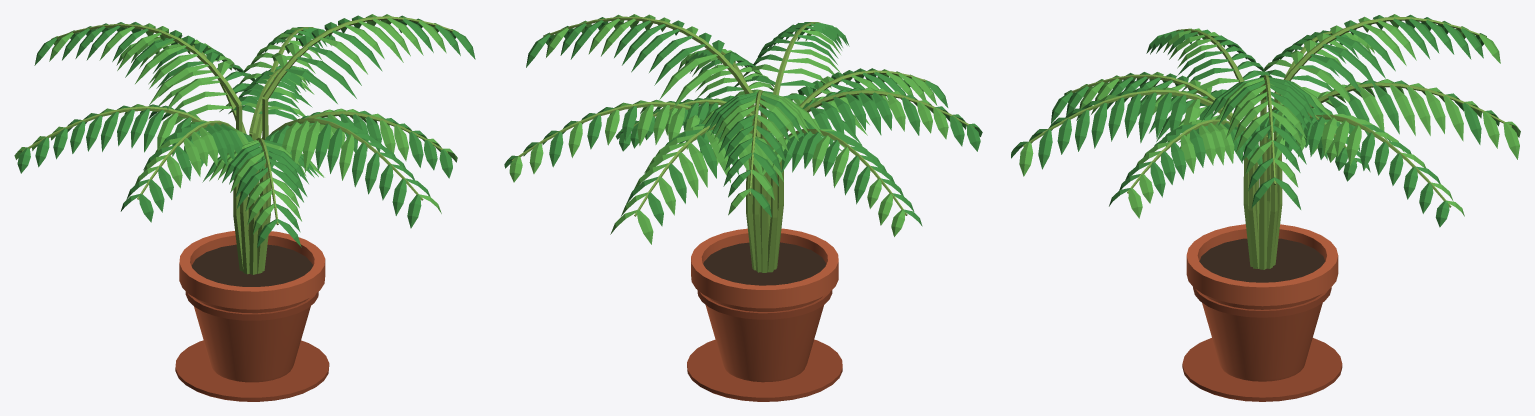
The model's file is planta-palma-maceta.glb.
3 views of the same model, side by side, from view 1: azimuth 30°, elevation 25°; view 2: azimuth 150°, elevation 25°; view 3: azimuth 270°, elevation 25° (orthographic). The views are drawn at different scales.
Parts seen in each view (by area): view 1: Planta_Palma_HojaPalma, Planta_Palma_HojaPalmaClara, Planta_Palma_Terracota, Planta_Palma_TalloPalma, Planta_Palma_TerracotaOscura, Planta_Palma_Tierra; view 2: Planta_Palma_HojaPalma, Planta_Palma_HojaPalmaClara, Planta_Palma_Terracota, Planta_Palma_TalloPalma, Planta_Palma_TerracotaOscura, Planta_Palma_Tierra; view 3: Planta_Palma_HojaPalma, Planta_Palma_HojaPalmaClara, Planta_Palma_Terracota, Planta_Palma_TalloPalma, Planta_Palma_TerracotaOscura, Planta_Palma_Tierra.
Part boxes in pixels (x1,y1,x2,y2): Planta_Palma_HojaPalma: (17,15,475,247); Planta_Palma_HojaPalmaClara: (14,14,457,234); Planta_Palma_Terracota: (179,231,325,382); Planta_Palma_TalloPalma: (22,16,458,274); Planta_Palma_TerracotaOscura: (175,291,329,401); Planta_Palma_Tierra: (191,244,312,286); Planta_Palma_HojaPalma: (504,17,982,226); Planta_Palma_HojaPalmaClara: (509,14,948,244); Planta_Palma_Terracota: (691,228,838,382); Planta_Palma_TalloPalma: (511,16,974,272); Planta_Palma_TerracotaOscura: (687,290,842,401); Planta_Palma_Tierra: (703,242,826,285); Planta_Palma_HojaPalma: (1011,14,1499,227); Planta_Palma_HojaPalmaClara: (1019,14,1520,218); Planta_Palma_Terracota: (1186,224,1338,381); Planta_Palma_TalloPalma: (1023,17,1511,269); Planta_Palma_TerracotaOscura: (1182,287,1342,401); Planta_Palma_Tierra: (1199,238,1325,282).
Size of the model in its own units: 1.22 by 0.9406 by 1.26.
